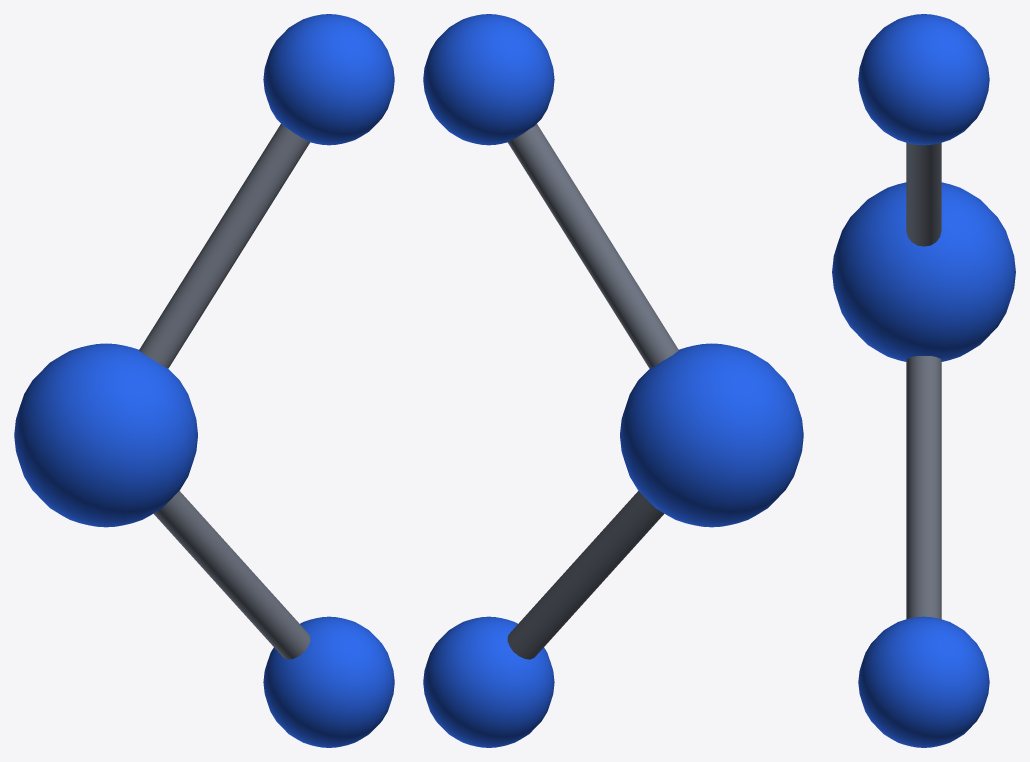
3 renders of one model, left to right at view 1: azimuth 30°, elevation 25°; view 2: azimuth 150°, elevation 25°; view 3: azimuth 270°, elevation 25°, orthographic.
Visible parts, largest first — view 1: O1, H1, H2, object 4, object 5; view 2: O1, H1, H2, object 4, object 5; view 3: O1, H1, H2, object 5, object 4.
Part boxes in pixels (<box>): O1: <box>14,343,197,527</box>; H1: <box>263,14,394,145</box>; H2: <box>263,616,394,747</box>; object 4: <box>139,124,309,368</box>; object 5: <box>153,491,310,659</box>; O1: <box>620,343,803,527</box>; H1: <box>423,14,554,145</box>; H2: <box>423,616,554,747</box>; object 4: <box>508,124,678,368</box>; object 5: <box>507,491,664,659</box>; O1: <box>832,182,1015,361</box>; H1: <box>858,14,989,145</box>; H2: <box>858,616,989,747</box>; object 5: <box>906,356,941,619</box>; object 4: <box>906,142,941,246</box>.
Bounding box in the file's own units: 0.1895 × 0.3636 × 0.084.
